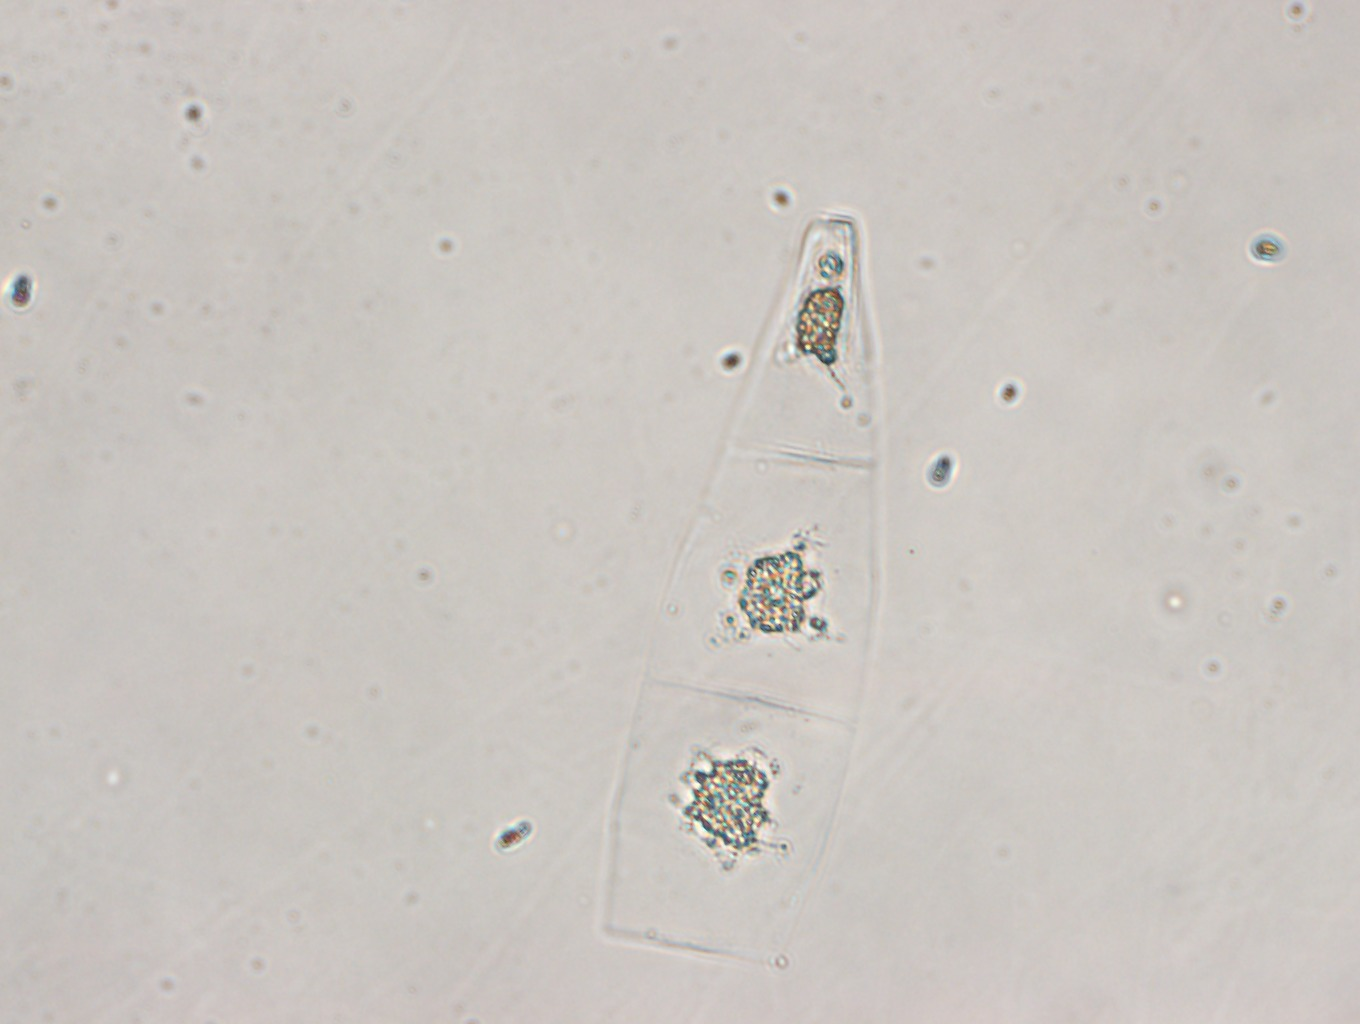helicotheca: (600, 212, 881, 981)
